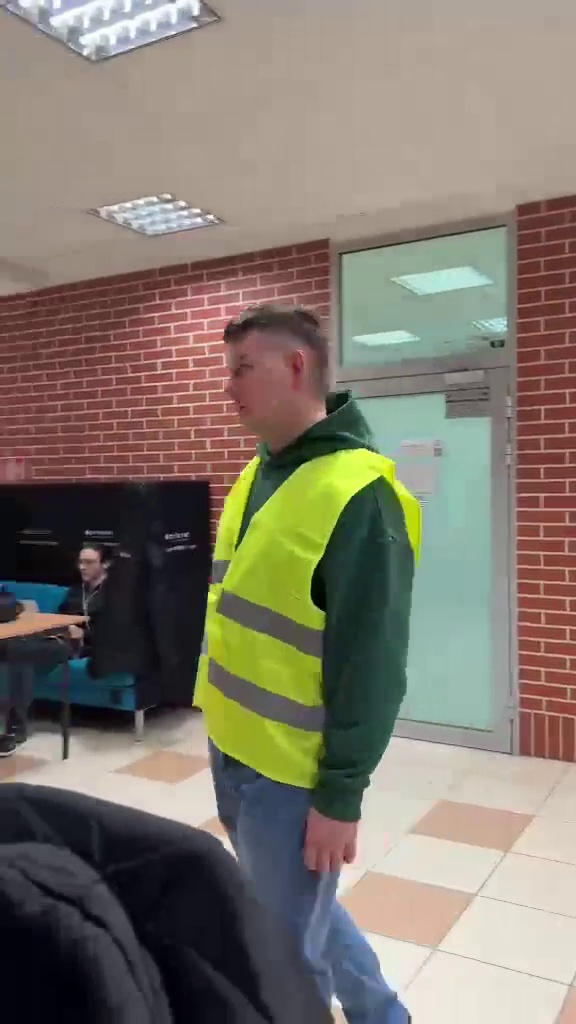no vest: (0, 534, 139, 753)
vest: (211, 306, 412, 1012)
